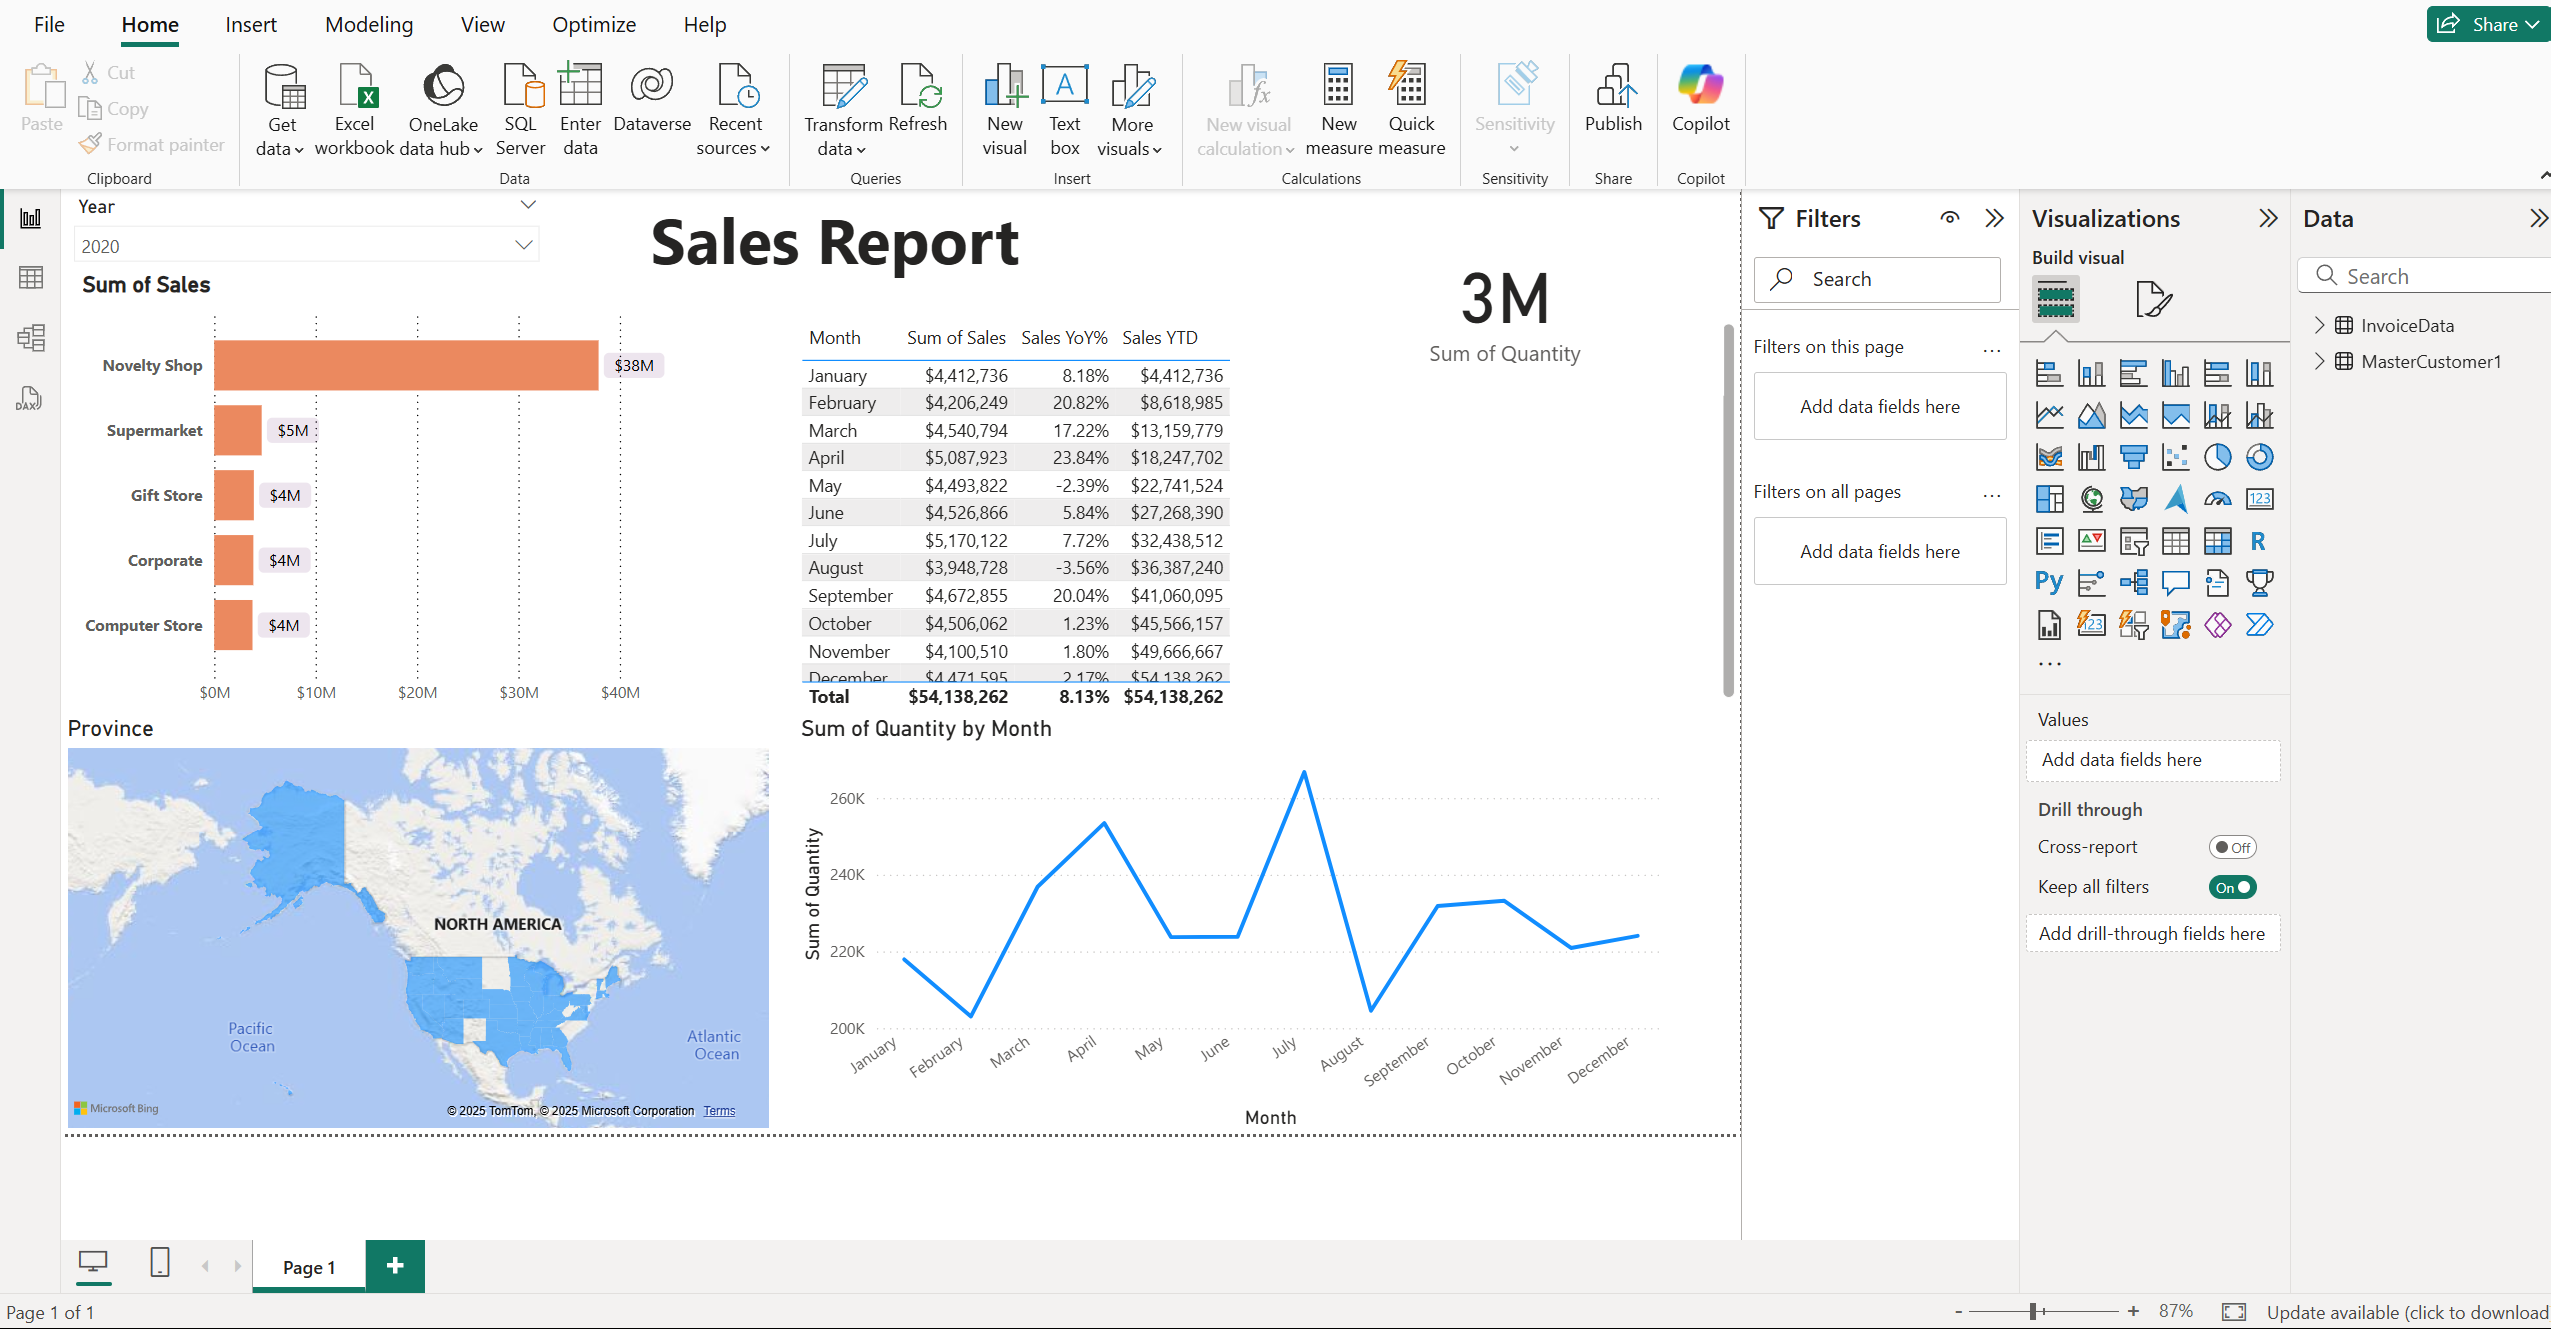

This screenshot's page, from the dashboard's own definition file:
{"tool":"powerbi","page":{"name":"Page 1","canvas":[1280,720],"ordinal":0},"visuals":[{"type":"clusteredBarChart","title":"Sum of Sales ","fields":{"Category":["MasterCustomer1.CustomerCategoryName"],"Y":["Sum(InvoiceData.Sales)"]},"box":[11.4,62.9,467.6,338.4],"z":0},{"type":"slicer","fields":{"Values":["InvoiceData.Date.Variation.Date Hierarchy.Year"]},"box":[0,0,375,62.9],"z":1000},{"type":"tableEx","fields":{"Values":["InvoiceData.Date.Variation.Date Hierarchy.Month","Sum(InvoiceData.Sales)","InvoiceData.Sales YoY%","InvoiceData.Sales YTD"]},"box":[559,97.2,721.4,304.1],"z":2000},{"type":"filledMap","fields":{"Category":["MasterCustomer1.Province"]},"box":[0,401.3,544.2,319],"z":3000},{"type":"lineChart","fields":{"Y":["Sum(InvoiceData.Quantity)"],"Category":["InvoiceData.Date.Variation.Date Hierarchy.Month"]},"box":[559,401.3,667.6,319],"z":4000},{"type":"textbox","box":[400.1,0,379.5,86.9],"z":5000},{"type":"card","fields":{"Values":["Sum(InvoiceData.Quantity)"]},"box":[932.9,14.9,335,142.9],"z":6000}]}

Visuals, with their boxes on the page's 1280x720 design canvas (x1, y1, x2, y2). These are canvas units, not pixel positions in the 2551x1329 screenshot, which may show the page scaled, cropped or inside an application window:
"Sum of Sales " clusteredBarChart: <region>11, 63, 479, 401</region>
slicer - InvoiceData.Date.Variation.Date Hierarchy.Year: <region>0, 0, 375, 63</region>
tableEx - InvoiceData.Date.Variation.Date Hierarchy.Month x Sum(InvoiceData.Sales): <region>559, 97, 1280, 401</region>
filledMap - MasterCustomer1.Province: <region>0, 401, 544, 720</region>
lineChart - Sum(InvoiceData.Quantity) x InvoiceData.Date.Variation.Date Hierarchy.Month: <region>559, 401, 1227, 720</region>
textbox: <region>400, 0, 780, 87</region>
card - Sum(InvoiceData.Quantity): <region>933, 15, 1268, 158</region>
